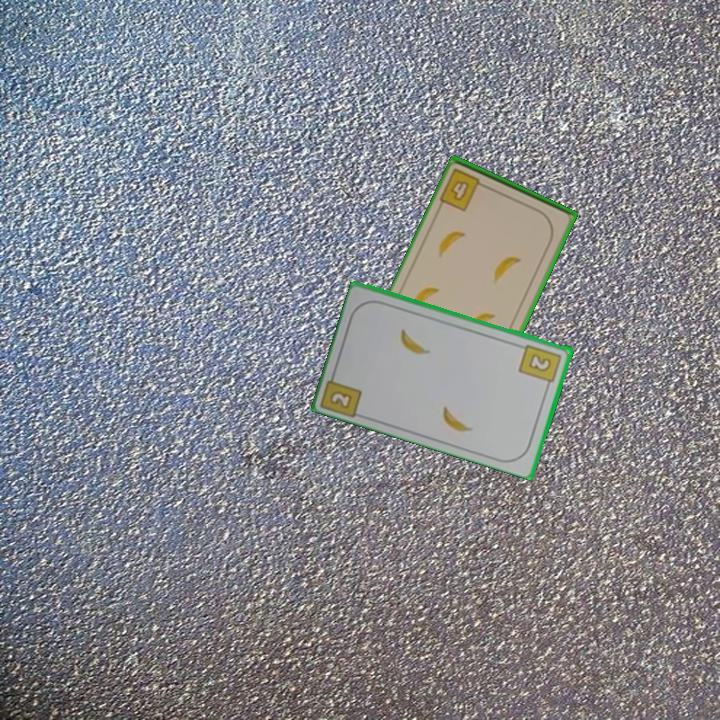2b: (516, 340, 565, 391), (326, 387, 355, 412)
4b: (436, 165, 491, 215)
